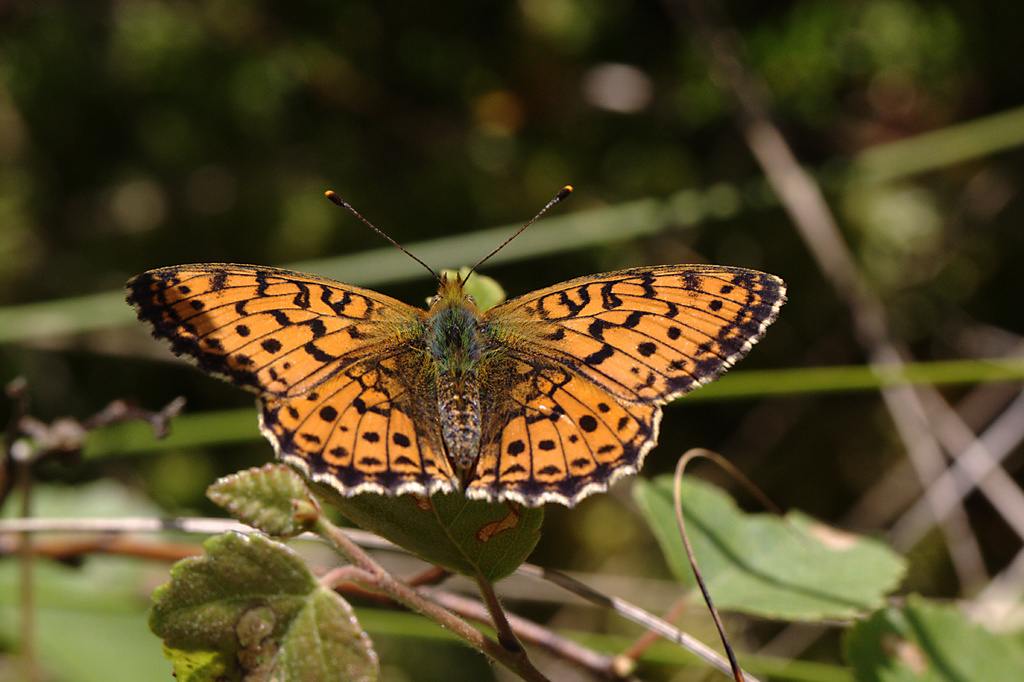Butterfly: (123, 206, 787, 525)
